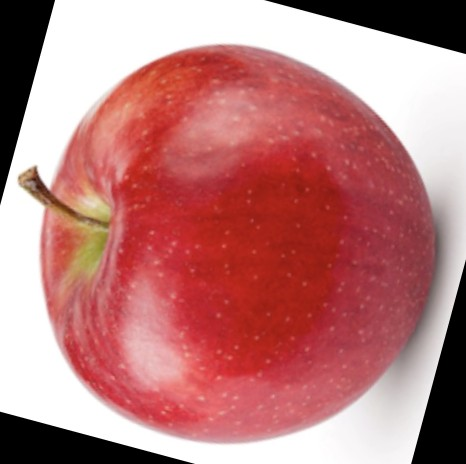fresh_apple: (37, 44, 435, 444)
